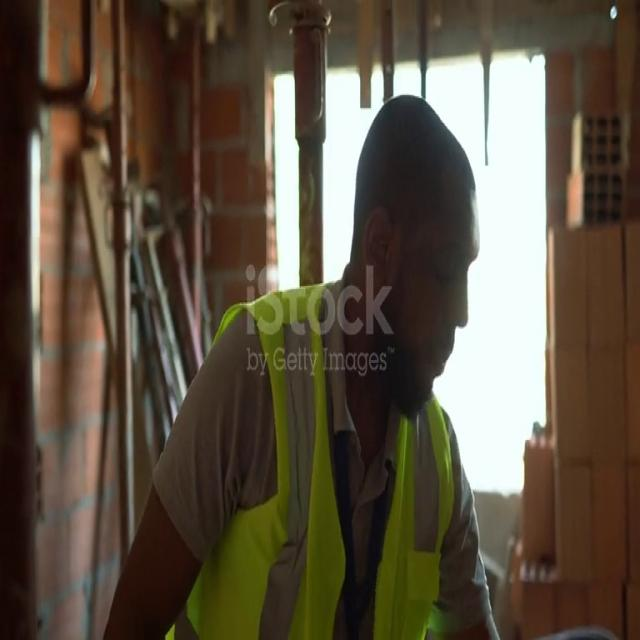sem_capacete: (333, 76, 491, 442)
